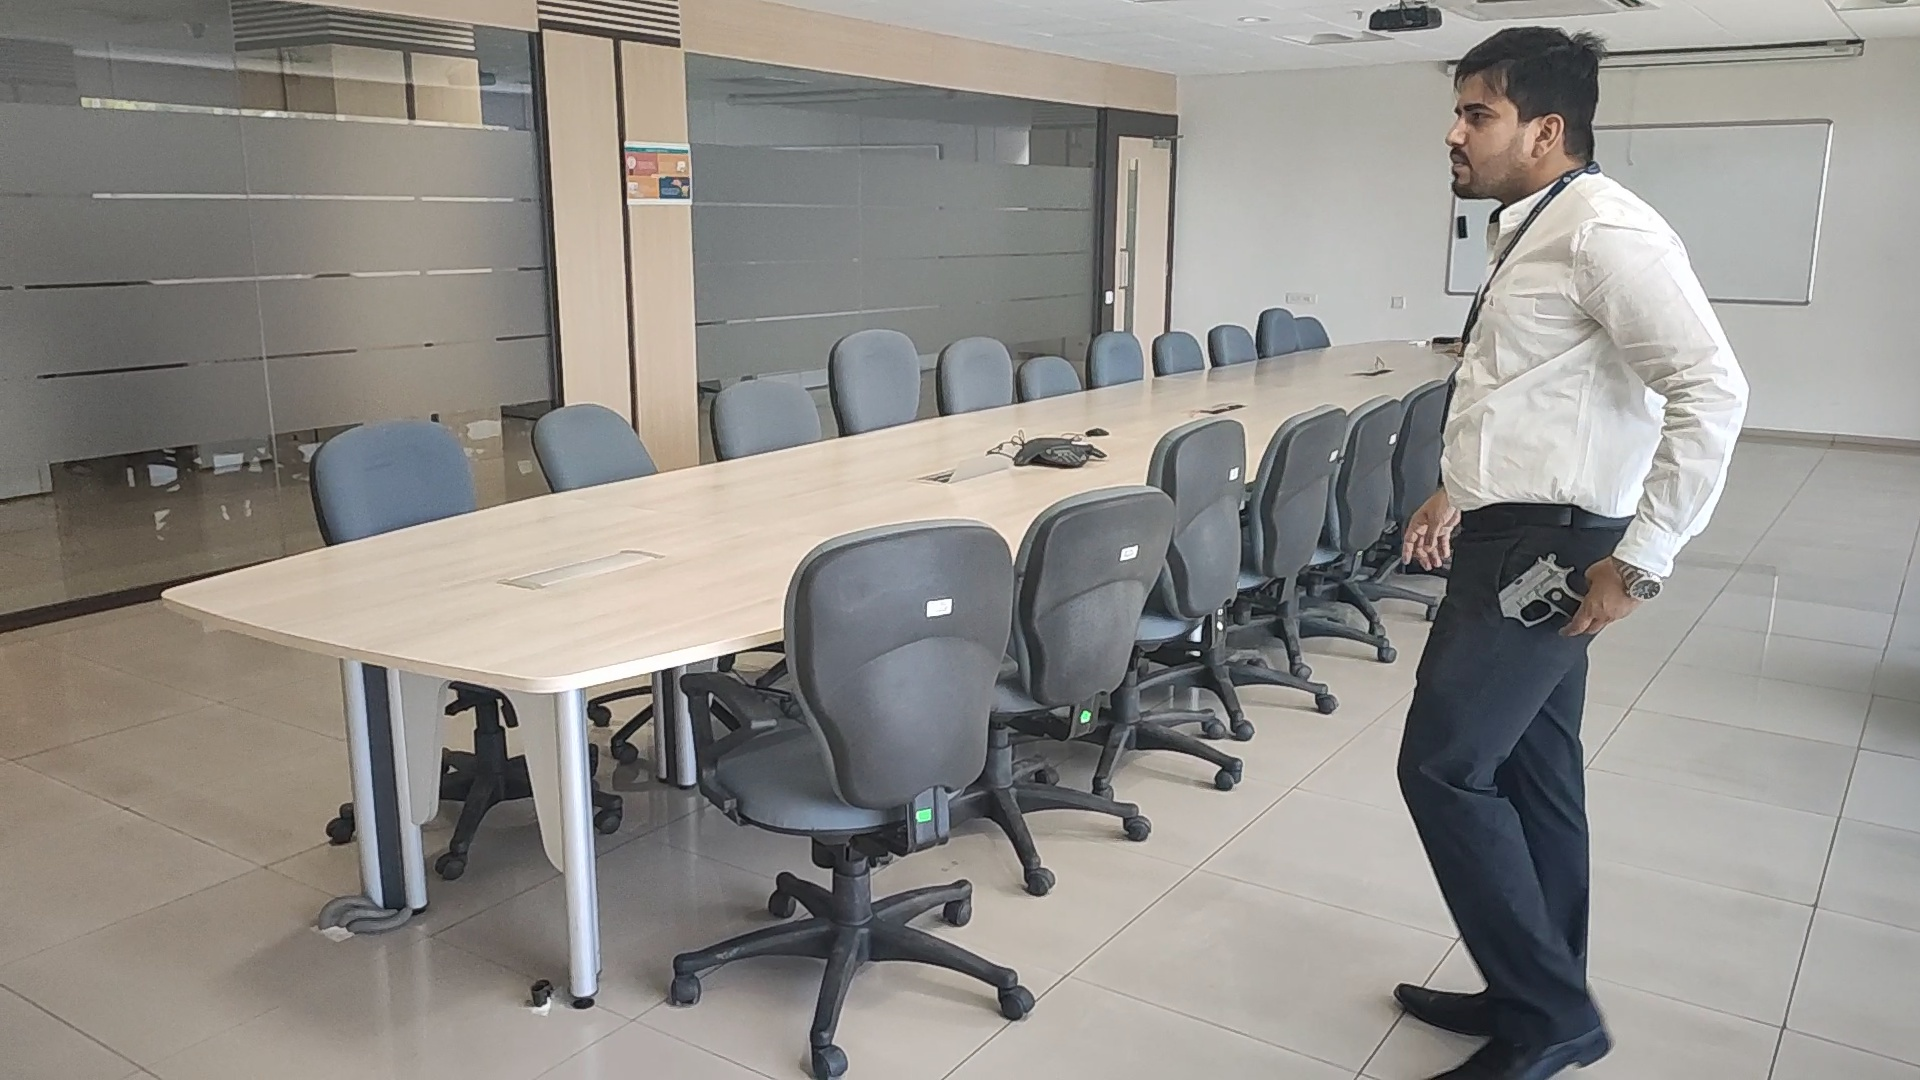gun: (1494, 553, 1581, 628)
